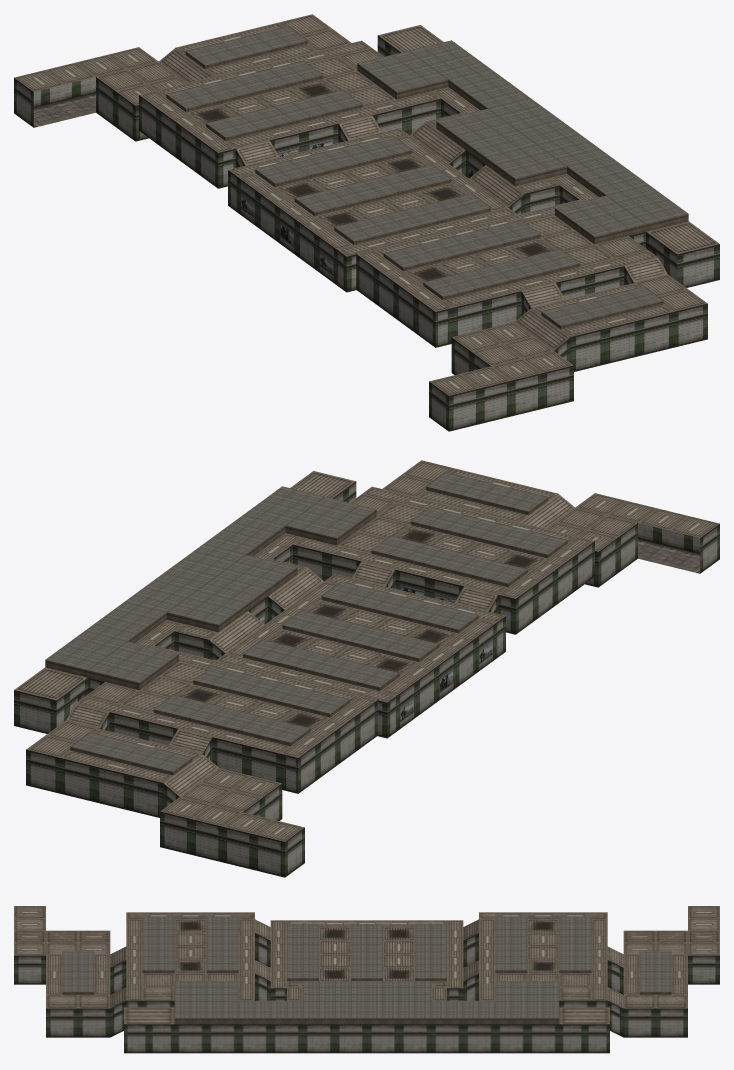
The model's file is NStation_World.obj.
The picture shows the model from 3 angles, top to bottom: view 1: azimuth 30°, elevation 25°; view 2: azimuth 150°, elevation 25°; view 3: azimuth 270°, elevation 25°; orthographic projection. The views are drawn at different scales.
Parts seen in each view (by area): view 1: Base01; view 2: Base01; view 3: Base01.
Boxes of the visible parts, x1,y1,x2,y2 form: Base01: (14,14,719,431); Base01: (14,460,719,877); Base01: (14,906,719,1053).
Bounding box in the file's own units: 36.87 × 6.53 × 81.98.
